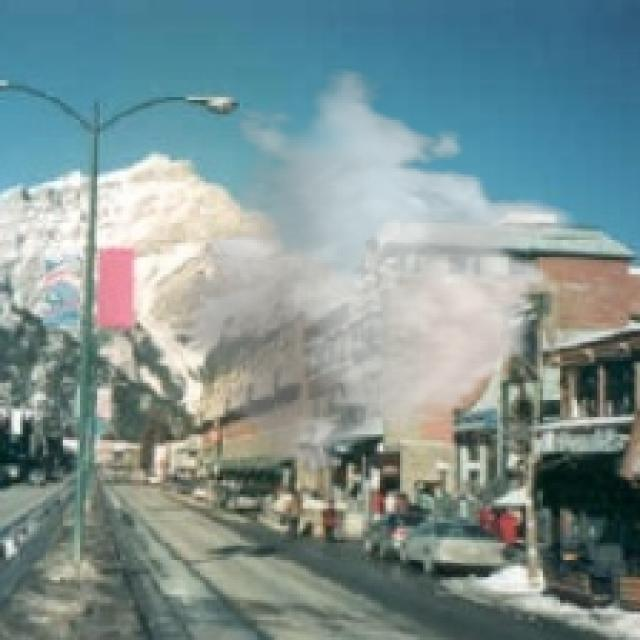Smoke: (157, 66, 583, 474)
